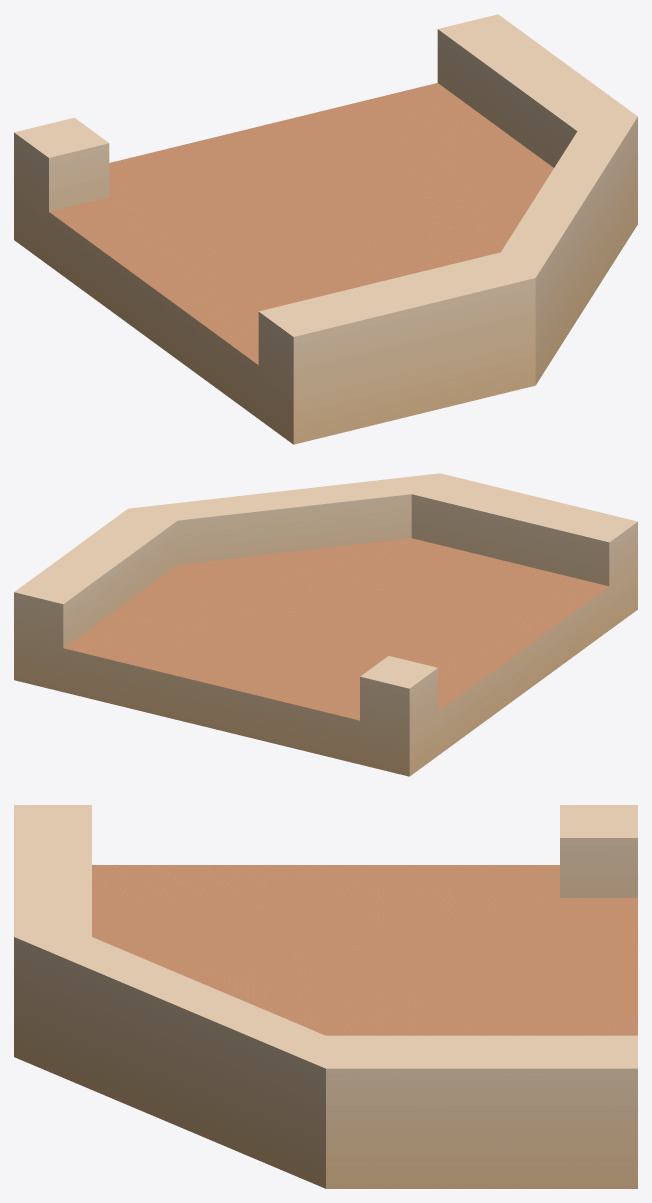
Rendered from roof_flat_border_corner_slanted_passage.glb.
The picture shows the model from 3 angles, top to bottom: view 1: azimuth 30°, elevation 25°; view 2: azimuth 150°, elevation 25°; view 3: azimuth 270°, elevation 25°; orthographic projection. The views are drawn at different scales.
Visible parts, largest first — view 1: roof-flat-border-corner-slanted-passage; view 2: roof-flat-border-corner-slanted-passage; view 3: roof-flat-border-corner-slanted-passage.
Boxes of the visible parts, x1,y1,x2,y2 form: roof-flat-border-corner-slanted-passage: [14, 14, 637, 444]; roof-flat-border-corner-slanted-passage: [14, 473, 637, 776]; roof-flat-border-corner-slanted-passage: [14, 805, 637, 1188].
Bounding box in the file's own units: 1 × 0.2125 × 1.
Materials: 1 (1 with a texture image).
